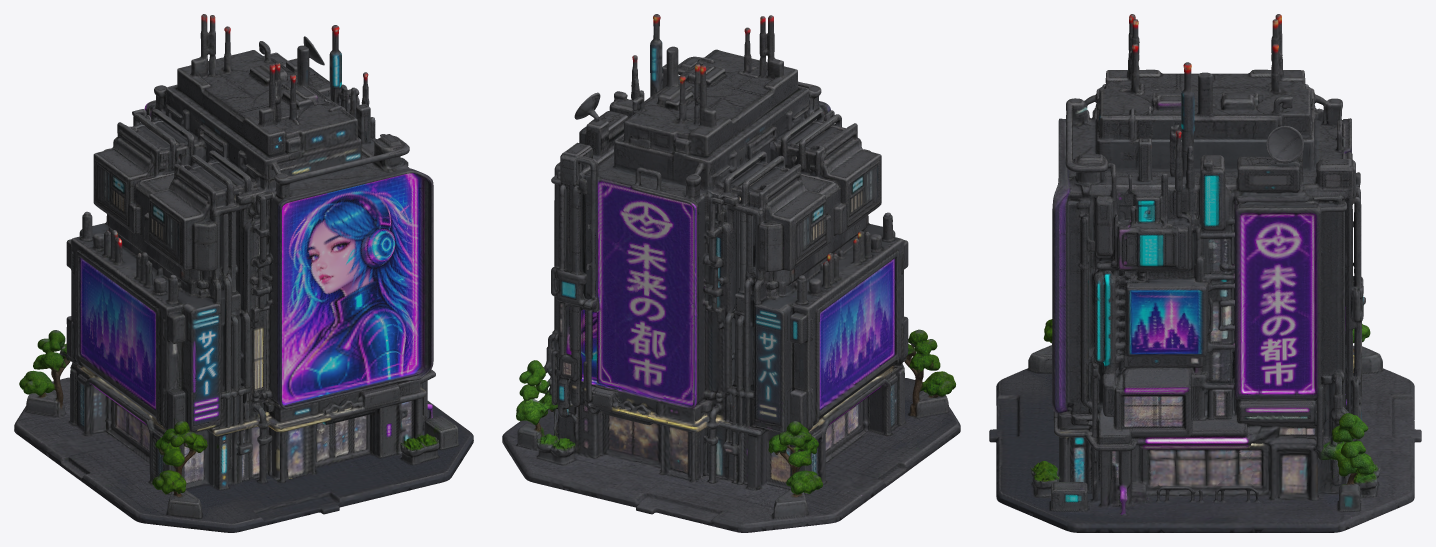
File: Edifício_Cyberpunk.glb
3 views of the same model, side by side, from view 1: azimuth 30°, elevation 25°; view 2: azimuth 150°, elevation 25°; view 3: azimuth 270°, elevation 25° (orthographic). The views are drawn at different scales.
Bounding box in the file's own units: 1.63 × 1.84 × 1.69.
Materials: 1 (1 with a texture image).
